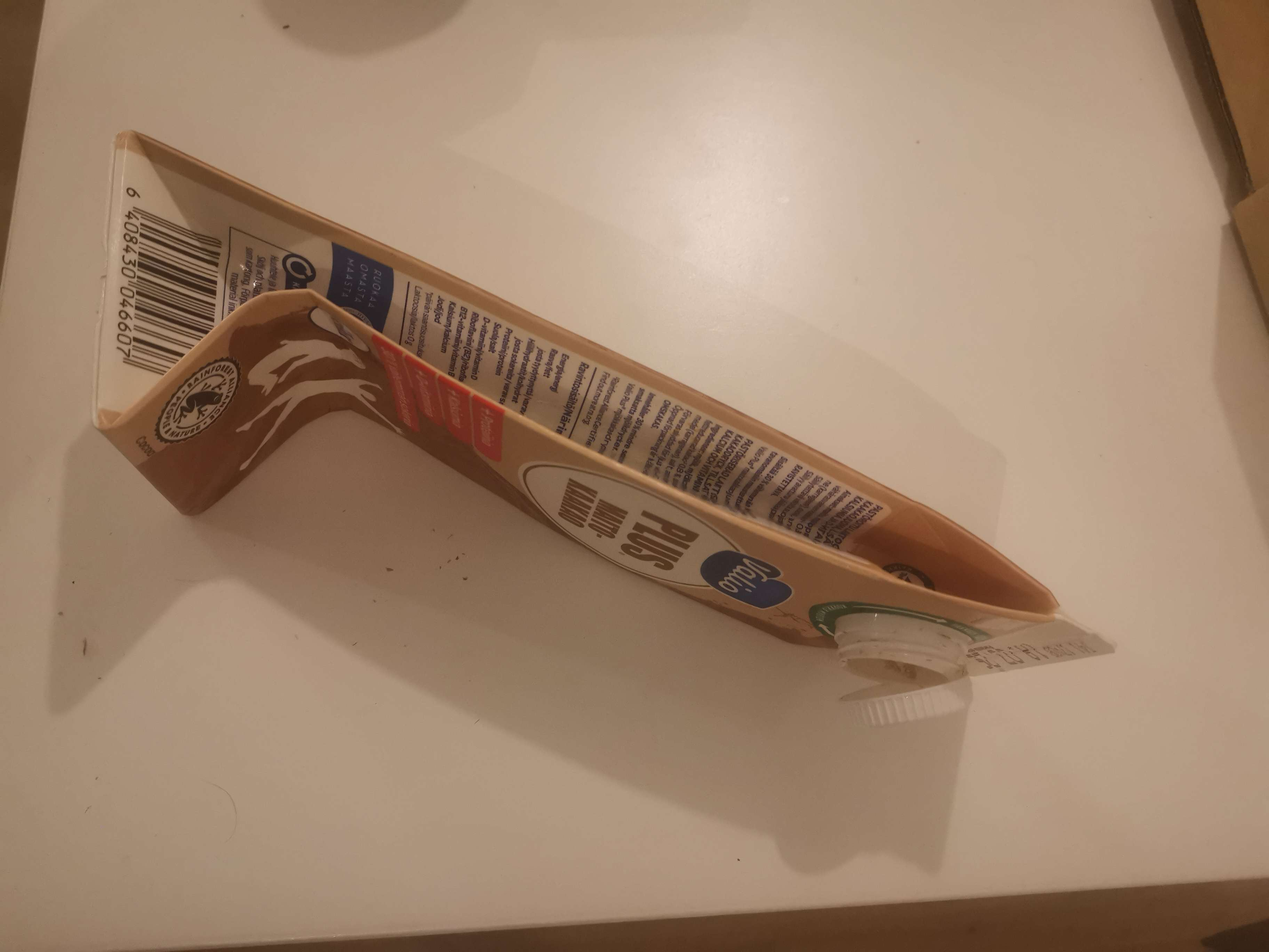Dryckeskartong: (91, 128, 1118, 732)
